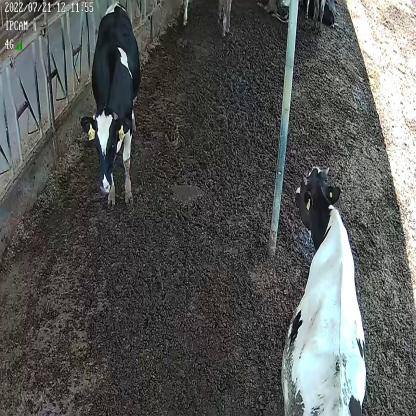cow: (278, 163, 370, 416), (79, 2, 142, 209)
